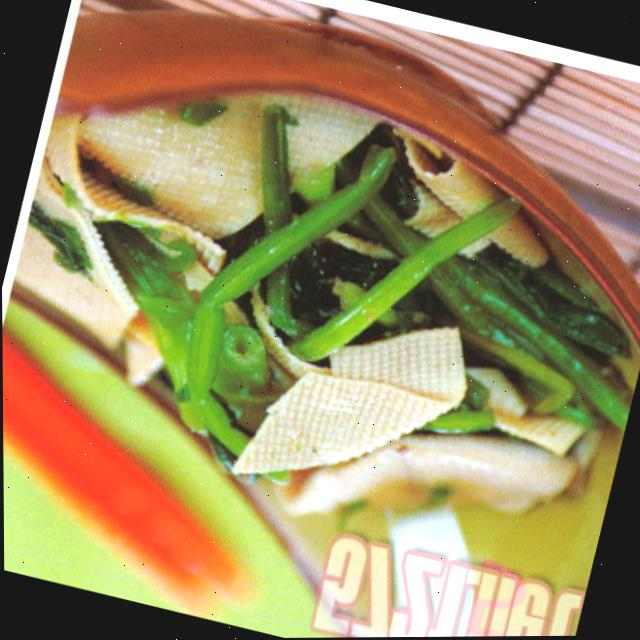蔬菜料理: (37, 46, 640, 560)
